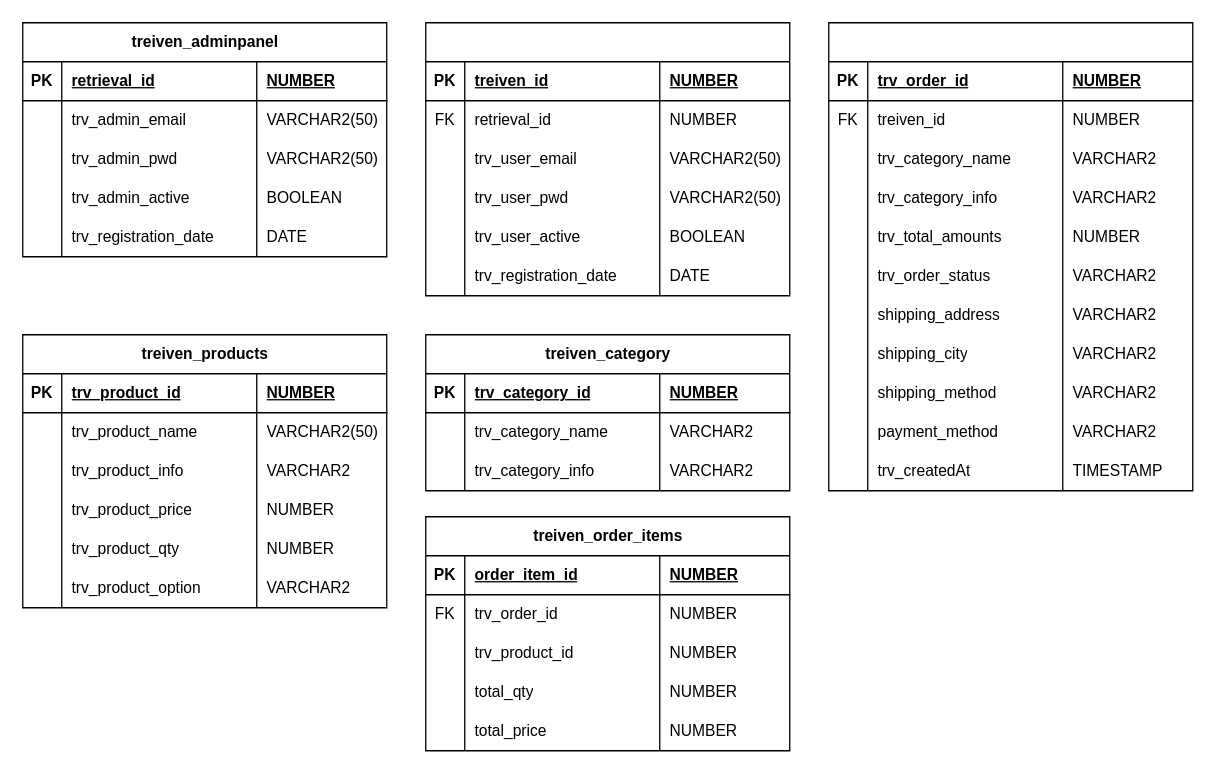
The diagram is 1216 pixels wide and 774 high, and some of its shapes have lost their labels. Here are the shapes that lost their labels. From the top down, the box of each, then its label:
(424, 21, 790, 296): treiven_user_accounts
(827, 21, 1193, 491): treiven_orders
